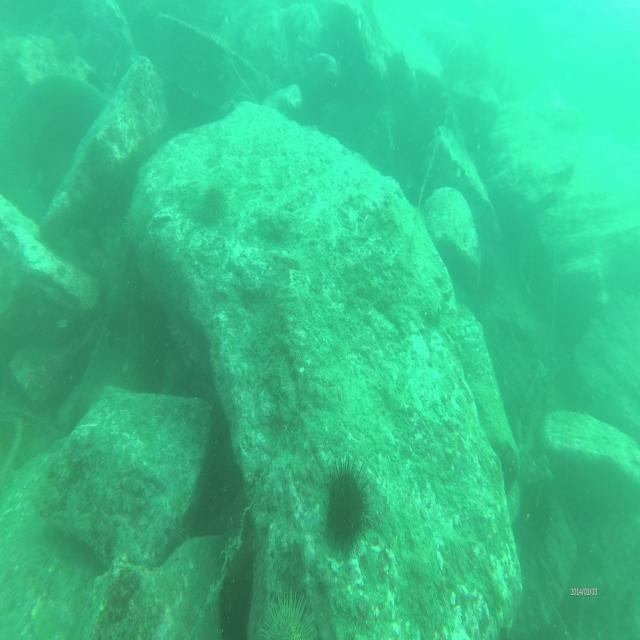echinus: (319, 452, 373, 558), (259, 588, 321, 640), (200, 180, 232, 224), (121, 200, 151, 242)
